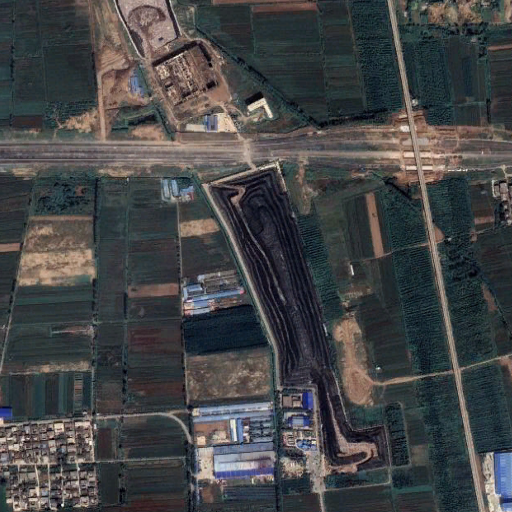lf: (199, 162, 391, 470)
